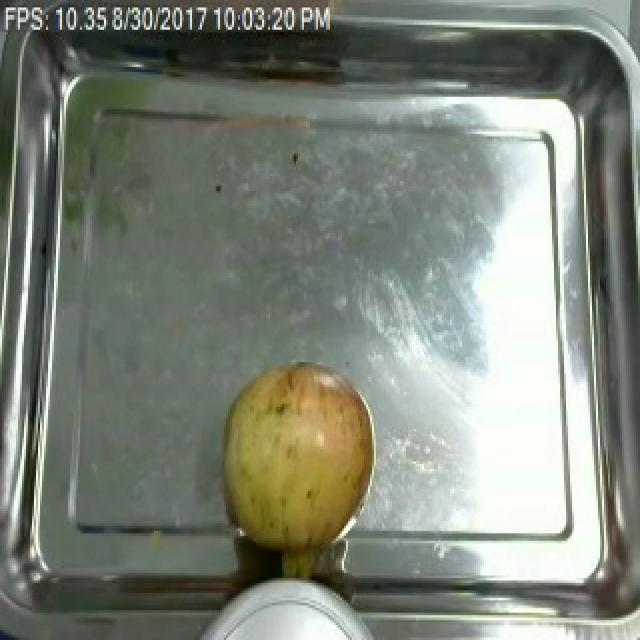fruit: (210, 352, 382, 580)
